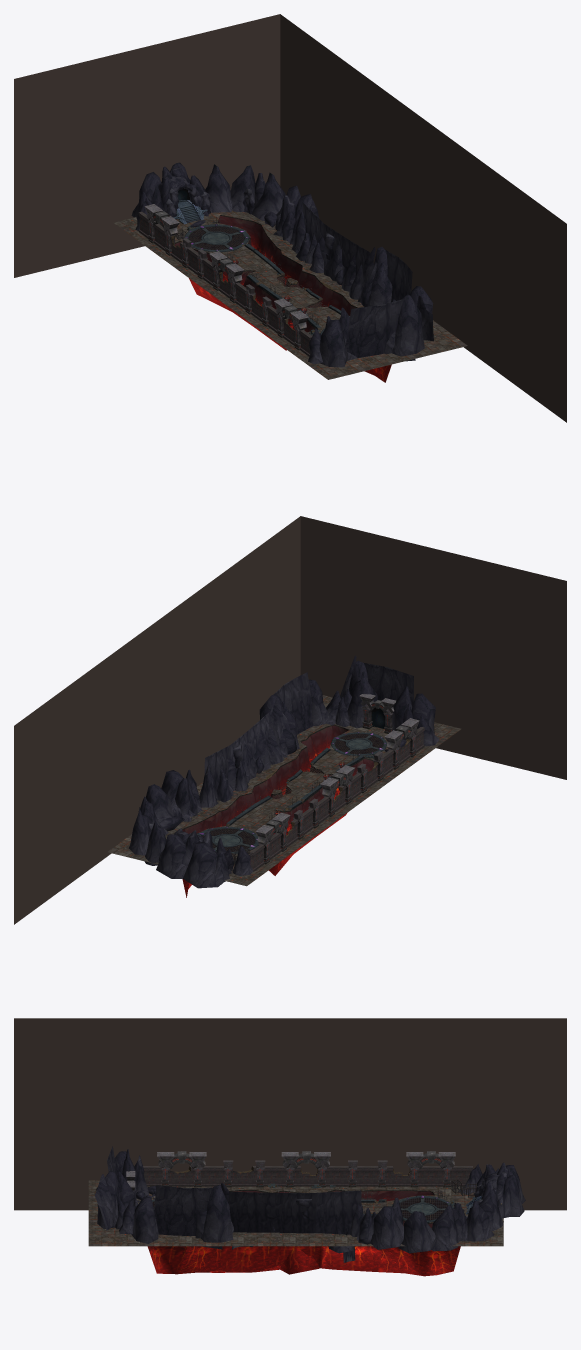
Rendered from Scene_heianzhimen1.fbx.
3 views of the same model, one above another, from view 1: azimuth 30°, elevation 25°; view 2: azimuth 150°, elevation 25°; view 3: azimuth 270°, elevation 25° (orthographic). The views are drawn at different scales.
Parts seen in each view (by area): view 1: Scene_diyu_c1, Scene_diyu_b1, Scene_diyu_a1; view 2: Scene_diyu_c1, Scene_diyu_b1, Scene_diyu_a1; view 3: Scene_diyu_c1, Scene_diyu_b1, Scene_diyu_a1.
Boxes of the visible parts, box(x1,y1,x2,y2) form: Scene_diyu_c1: box(14, 14, 566, 422); Scene_diyu_b1: box(131, 162, 433, 367); Scene_diyu_a1: box(138, 204, 391, 382); Scene_diyu_c1: box(14, 516, 566, 924); Scene_diyu_b1: box(129, 655, 439, 888); Scene_diyu_a1: box(182, 694, 424, 897); Scene_diyu_c1: box(14, 1018, 566, 1246); Scene_diyu_b1: box(94, 1146, 525, 1262); Scene_diyu_a1: box(126, 1151, 472, 1276).
Size of the model in its own units: 4671 by 3337 by 8708.
